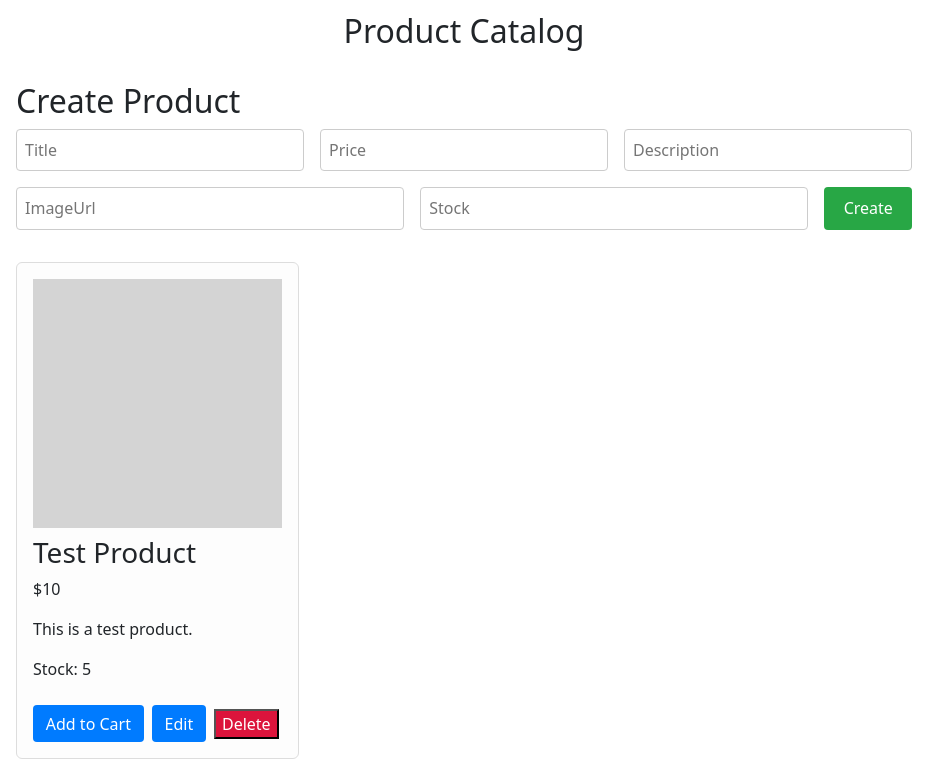
Test: Cart Integration Test › adds product to cart and updates cart display
Expected: the heading "Test Product" is shown, [33,533,196,571]
Note: Click "Add to Cart"
Click the button "Add to Cart" at (88, 724), box [33,705,144,742]
(page scrolled)
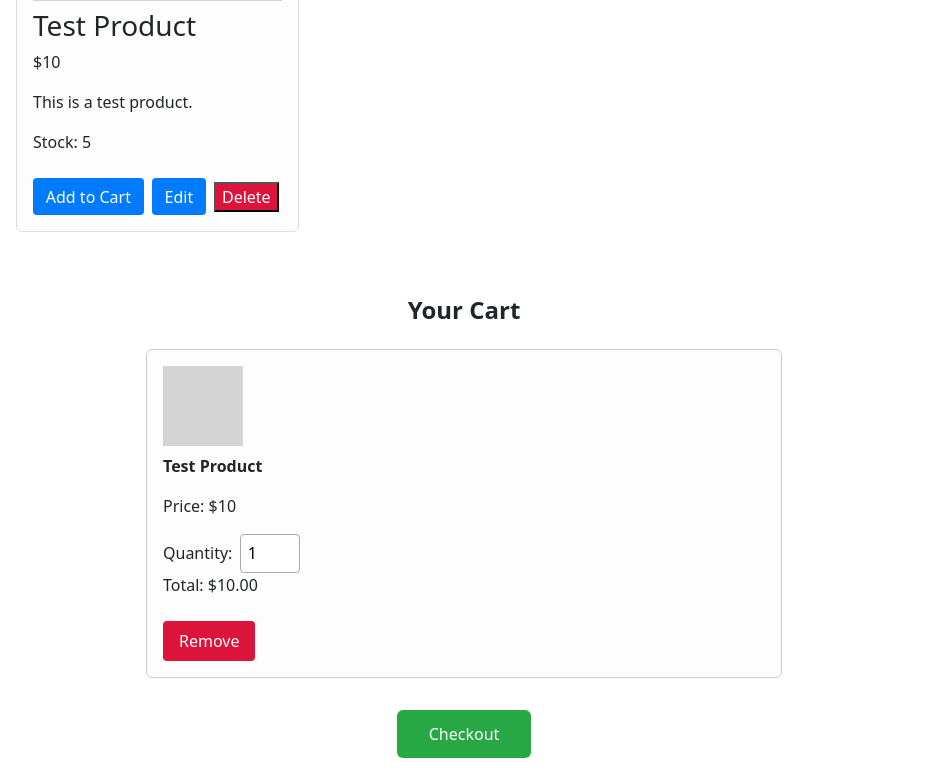
Now the text "Test Product" is shown, box [163,455,262,477]
Now the text "Price: $10" is shown, box [163,495,236,517]
Now the text "Total: $10.00" is shown, box [163,574,258,596]
